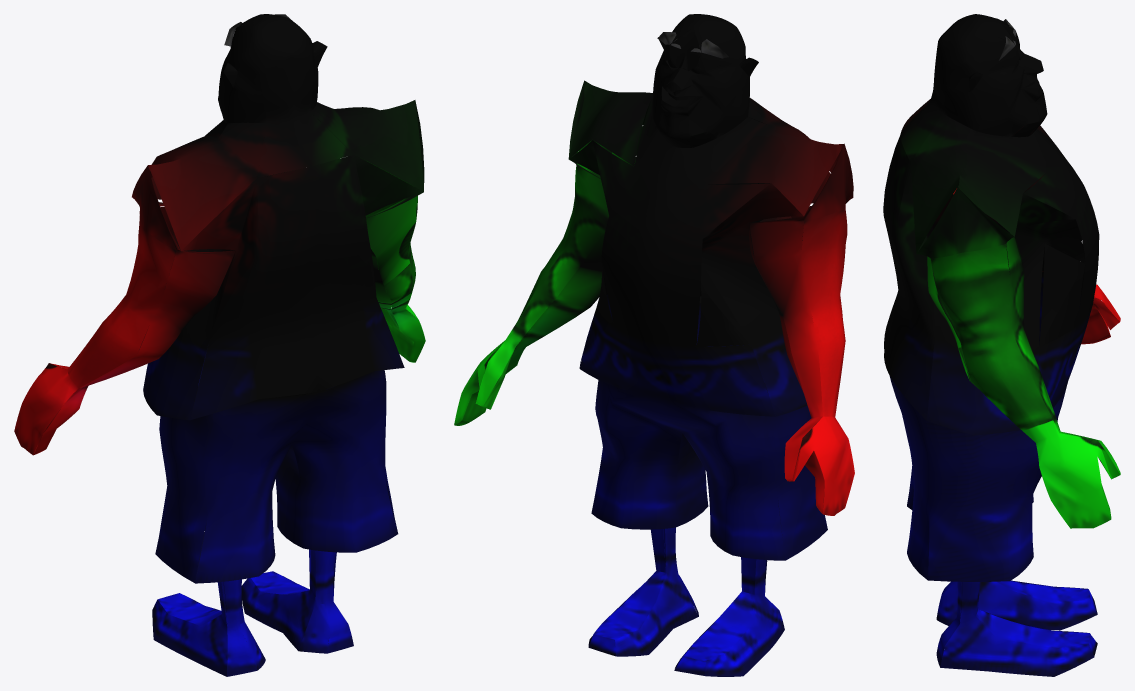
Rendered from maga_khan.glb.
The picture shows the model from 3 angles, left to right: view 1: azimuth 30°, elevation 25°; view 2: azimuth 150°, elevation 25°; view 3: azimuth 270°, elevation 25°; orthographic projection. The views are drawn at different scales.
Parts seen in each view (by area): view 1: MagaKhan; view 2: MagaKhan; view 3: MagaKhan.
Boxes of the visible parts, x1,y1,x2,y2 form: MagaKhan: (14, 14, 425, 676); MagaKhan: (454, 14, 854, 676); MagaKhan: (883, 14, 1120, 676).
Size of the model in its own units: 1.25 by 1.96 by 0.6801.
2 materials, 2 textured.
